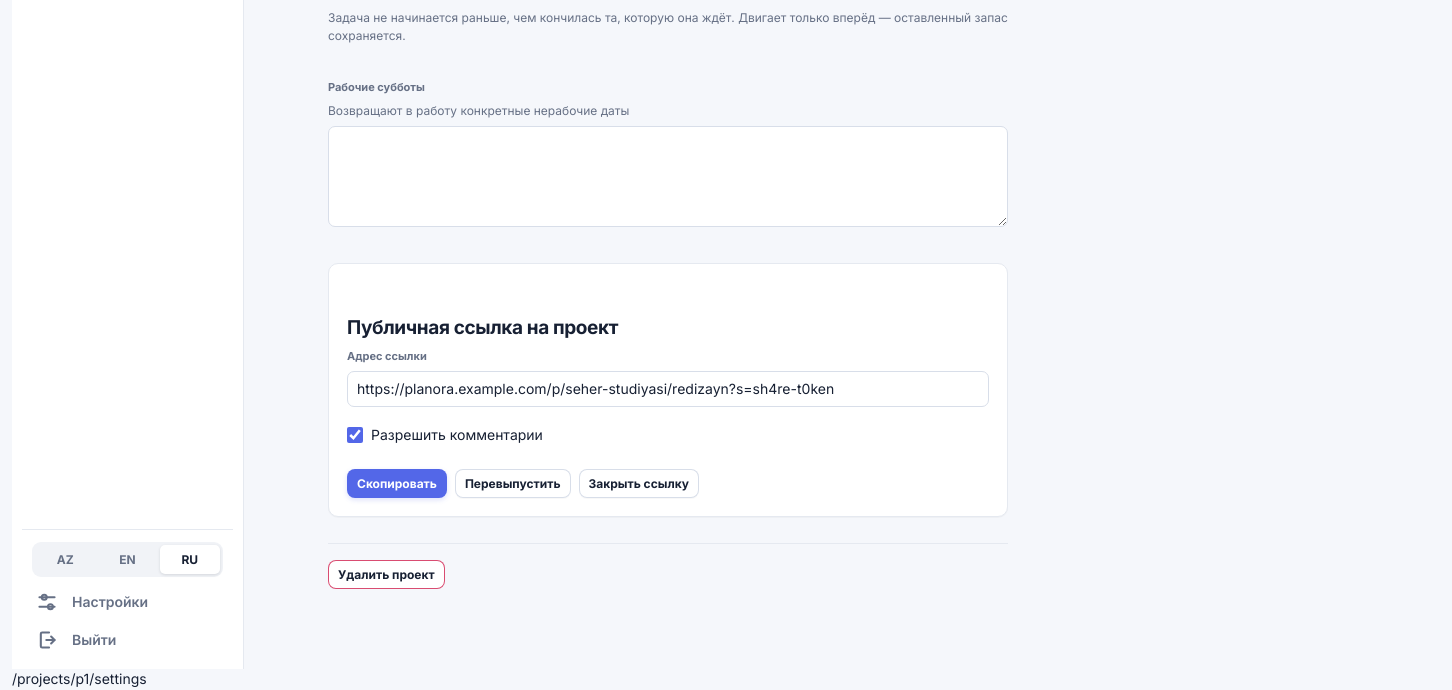
Test case: публичная ссылка в настройках проекта › отзыв возвращает проект в неопубликованное состояние
(page scrolled)
What coordinates should you click on to do the following:
click the button "Закрыть ссылку"
I would click on:
 (639, 484)
Its box is [578,470,699,498].
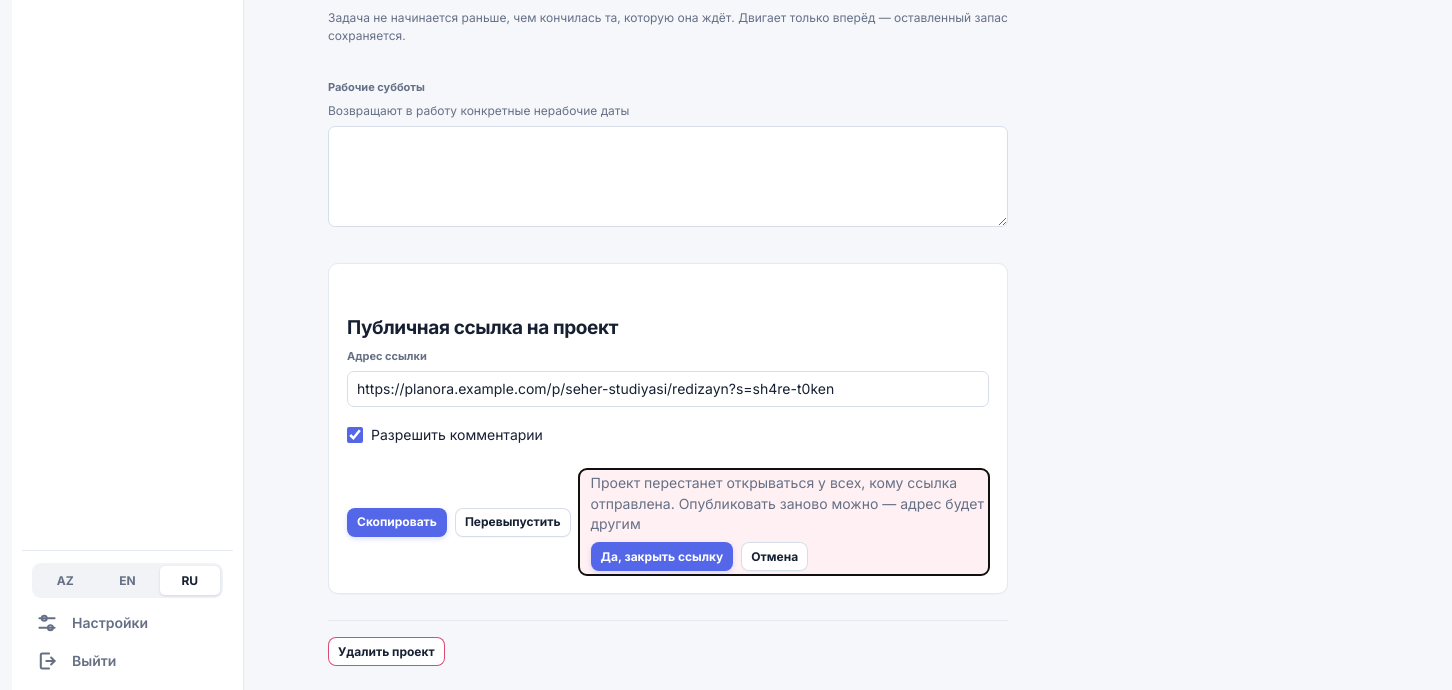
What coordinates should you click on to do the following:
click the button "Да, закрыть ссылку"
I would click on:
 (662, 557)
Its box is [590,542,733,571].
(page scrolled)
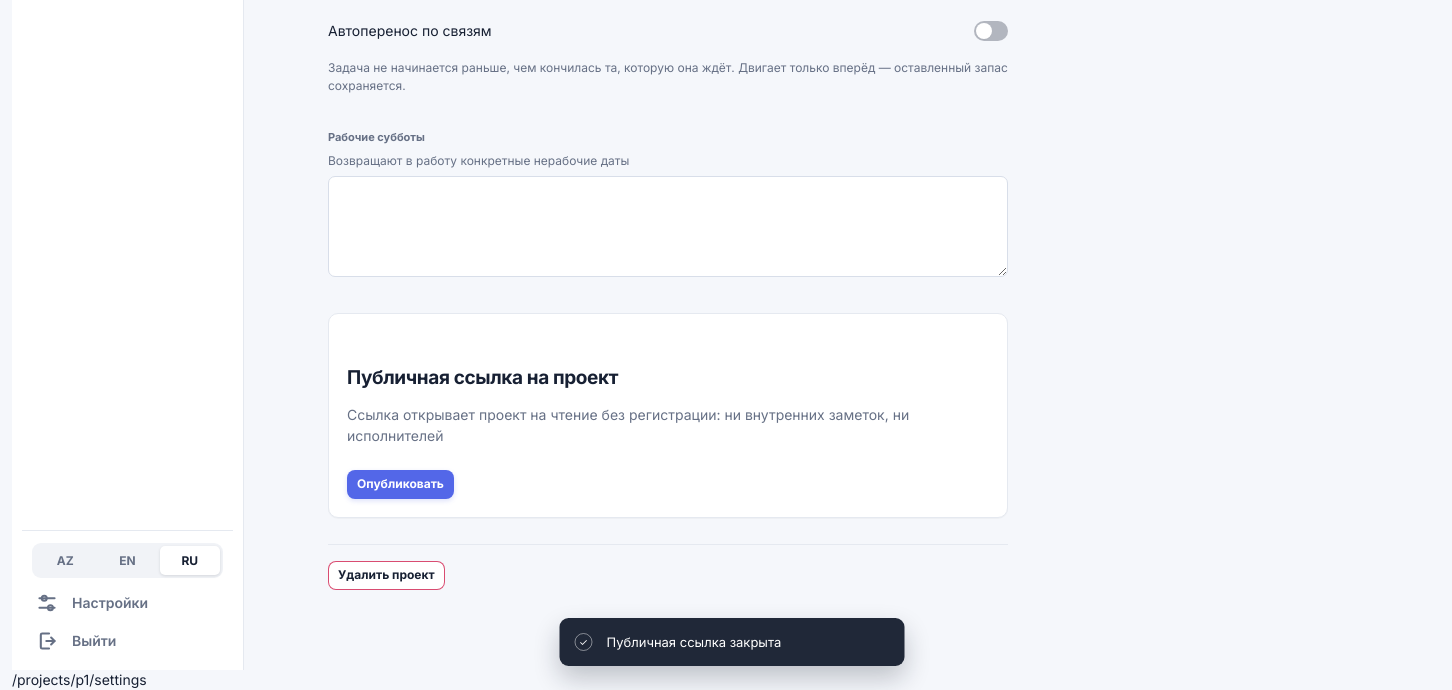
Check: the button "Опубликовать" is shown, box [347,470,454,499]
Check: the label labelled "Адрес ссылки" is gone
